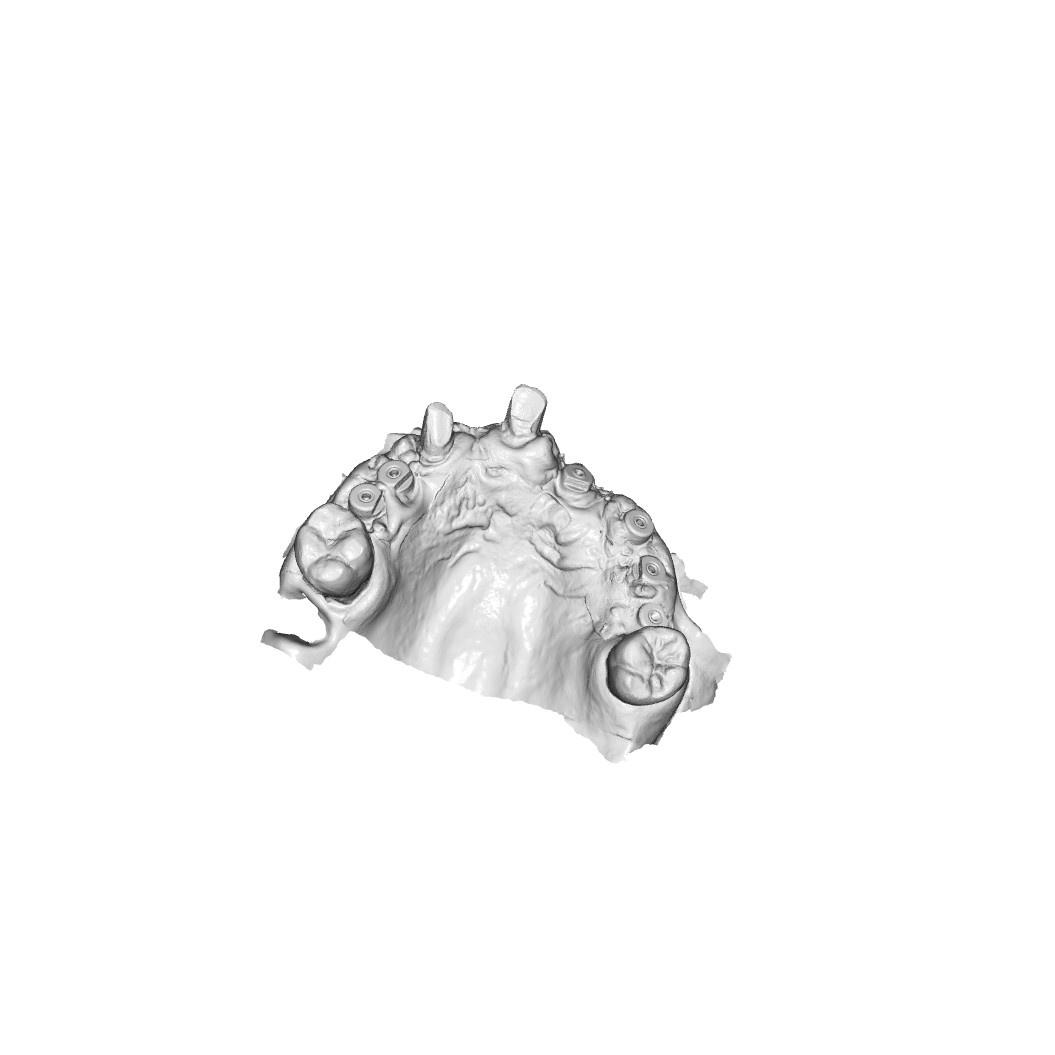crown: (502, 371, 549, 446), (418, 391, 460, 467)
implant: (616, 501, 658, 543), (633, 552, 673, 594), (350, 481, 388, 519), (561, 460, 593, 493), (383, 457, 412, 491), (635, 600, 668, 628)
molar: (296, 504, 375, 598), (604, 628, 695, 704)
